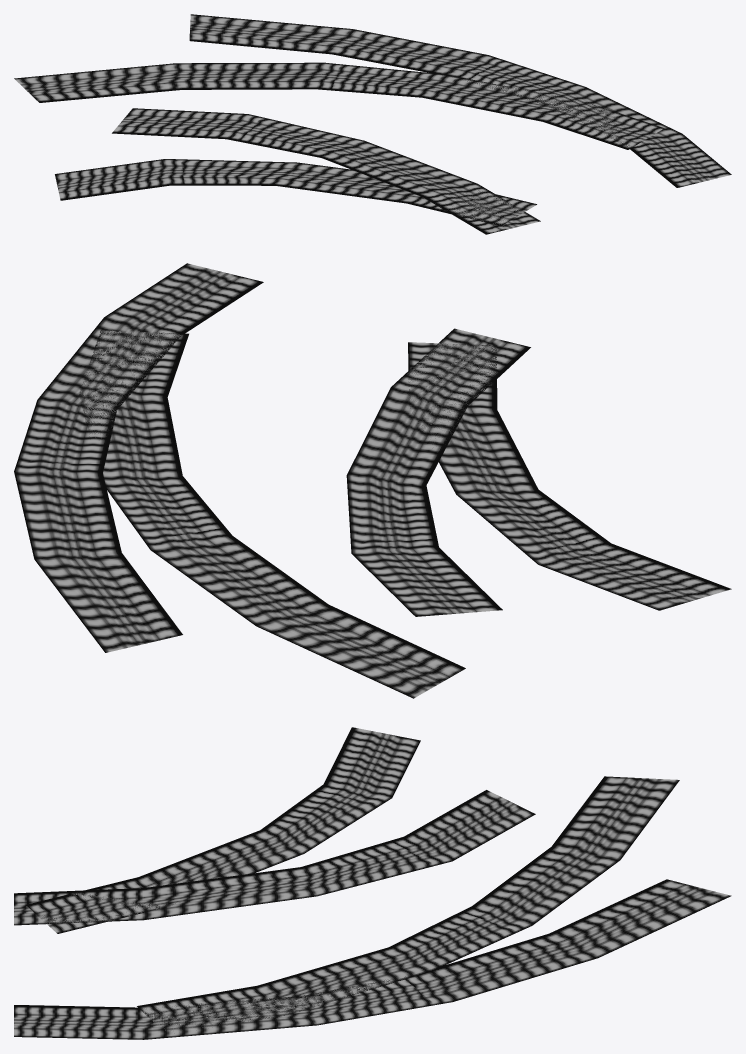
File: Model_TireMarks_Left_Cross.fbx
3 views of the same model, one above another, from view 1: azimuth 30°, elevation 25°; view 2: azimuth 150°, elevation 25°; view 3: azimuth 270°, elevation 25° (orthographic). The views are drawn at different scales.
Visible parts, largest first — view 1: TireMarks_Left_Cross; view 2: TireMarks_Left_Cross; view 3: TireMarks_Left_Cross.
Part boxes in pixels (x1,y1,x2,y2): TireMarks_Left_Cross: (14, 14, 731, 234); TireMarks_Left_Cross: (14, 263, 731, 698); TireMarks_Left_Cross: (14, 727, 731, 1039).
Bounding box in the file's own units: 391 × 3.05e-14 × 379.
